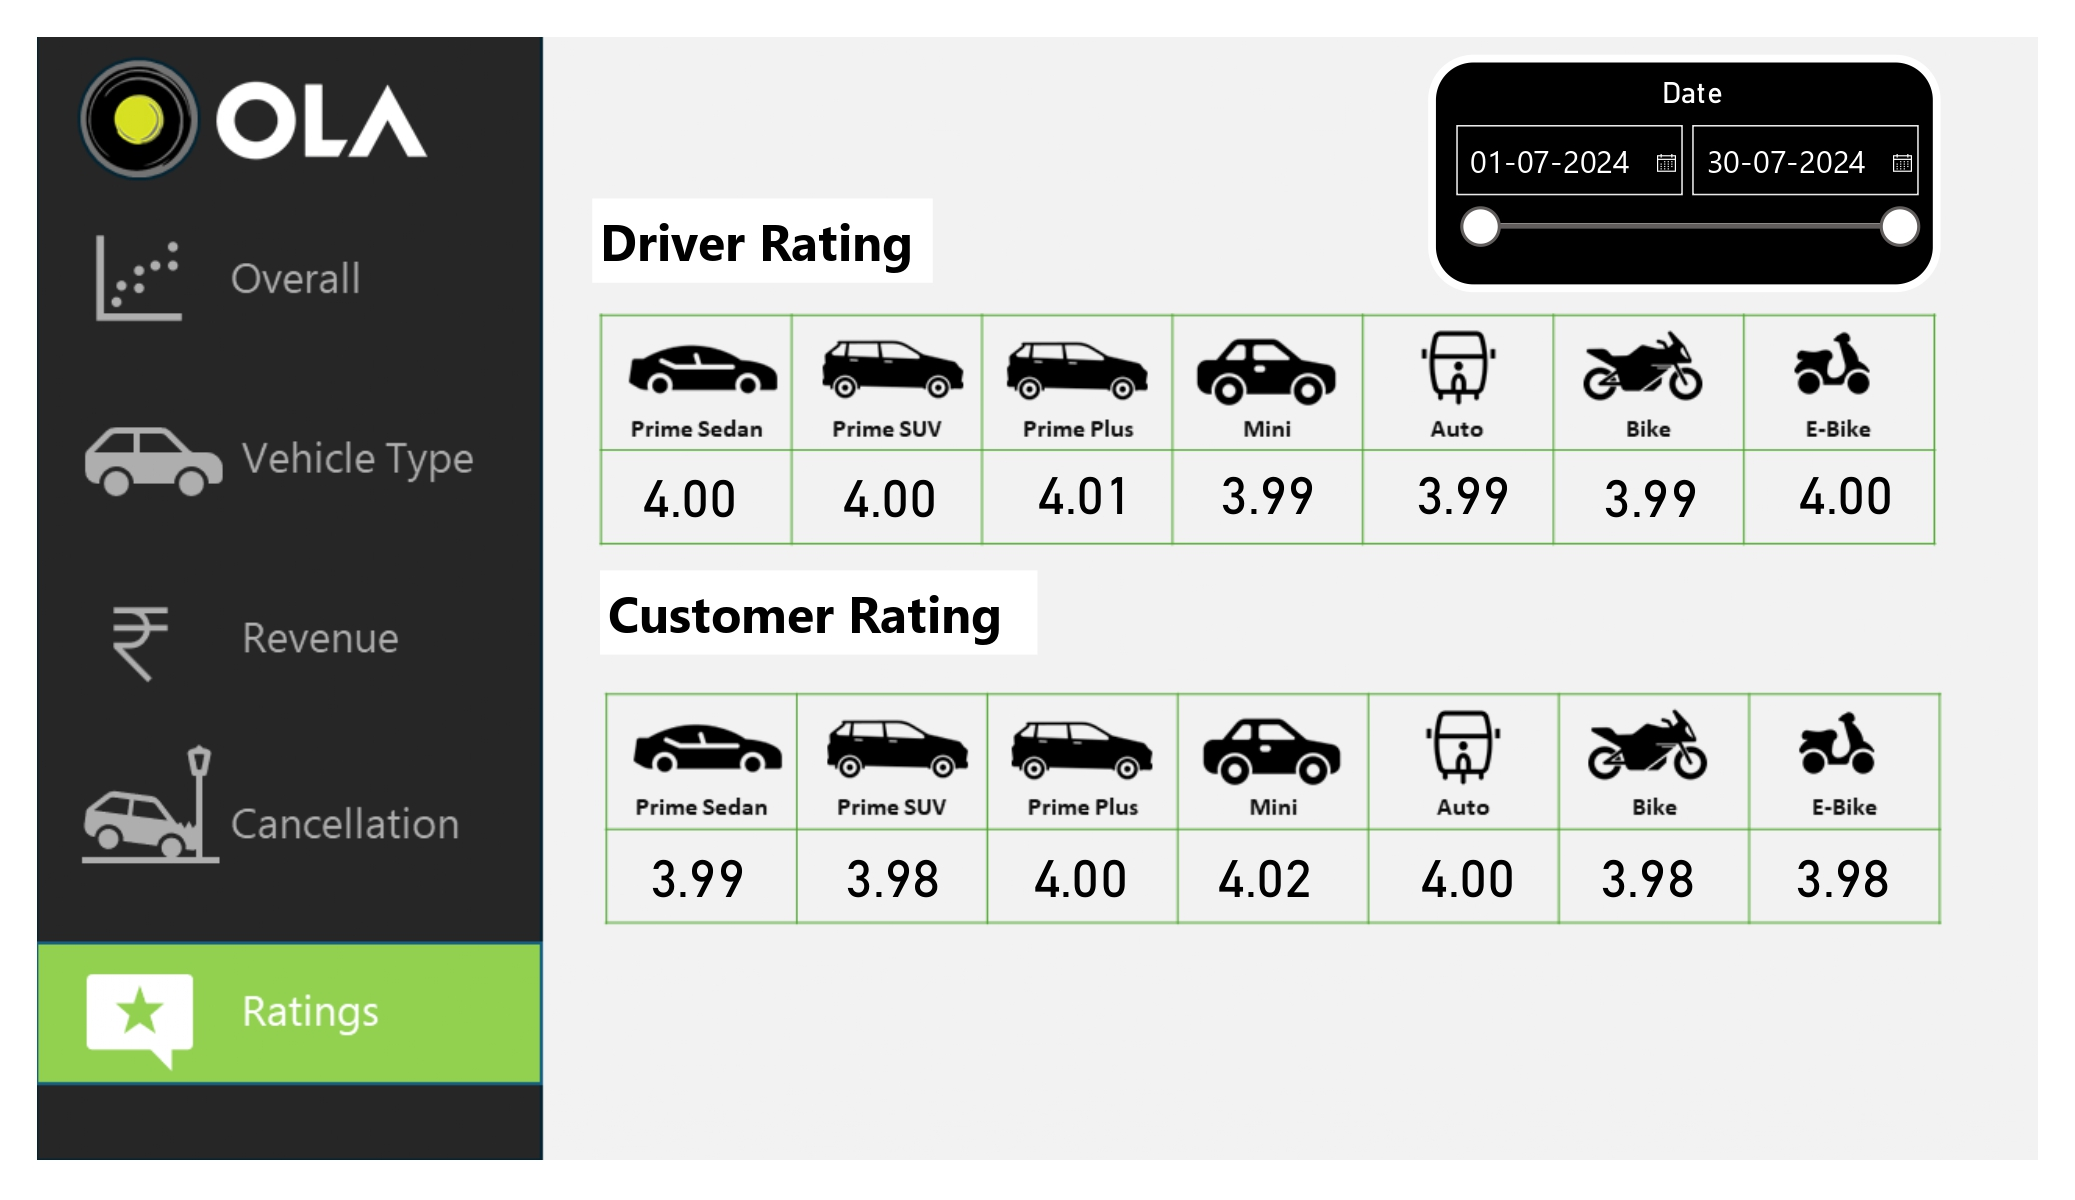

Layout of this report page (visuals, bound fields, positions):
{"tool":"powerbi","page":{"name":"Ratings","canvas":[1280,720],"ordinal":4},"visuals":[{"type":"actionButton","box":[0,226.2,323.8,97.6],"z":0},{"type":"actionButton","box":[0,102,324.5,98.3],"z":1000},{"type":"actionButton","box":[0,341.2,324.5,98.3],"z":2000},{"type":"actionButton","box":[0,439.4,324.5,98.3],"z":3000},{"type":"card","title":"Total Value","fields":{"Values":["Avg(Bookings.Driver_Ratings)"]},"box":[355.3,262.2,125,61.3],"z":4000},{"type":"card","title":"Total Value","fields":{"Values":["Avg(Bookings.Driver_Ratings)"]},"box":[482.7,262.2,125,61.3],"z":4001},{"type":"card","title":"Total Value","fields":{"Values":["Avg(Bookings.Driver_Ratings)"]},"box":[607.7,259.8,125,61.3],"z":4002},{"type":"card","title":"Total Value","fields":{"Values":["Avg(Bookings.Driver_Ratings)"]},"box":[725.3,259.8,125,61.3],"z":4003},{"type":"card","title":"Total Value","fields":{"Values":["Avg(Bookings.Driver_Ratings)"]},"box":[850.3,259.8,125,61.3],"z":4004},{"type":"card","title":"Total Value","fields":{"Values":["Avg(Bookings.Driver_Ratings)"]},"box":[970.4,262.2,125,61.3],"z":4005},{"type":"card","title":"Total Value","fields":{"Values":["Avg(Bookings.Driver_Ratings)"]},"box":[1095.4,259.8,125,61.3],"z":4006},{"type":"card","title":"Total Value","fields":{"Values":["Avg(Bookings.Customer_Rating)"]},"box":[360.2,504.8,125,61.3],"z":4007},{"type":"card","title":"Total Value","fields":{"Values":["Avg(Bookings.Customer_Rating)"]},"box":[485.2,504.8,125,61.3],"z":4008},{"type":"card","title":"Total Value","fields":{"Values":["Avg(Bookings.Customer_Rating)"]},"box":[605.3,504.8,125,61.3],"z":4009},{"type":"card","title":"Total Value","fields":{"Values":["Avg(Bookings.Customer_Rating)"]},"box":[722.9,504.8,125,61.3],"z":4010},{"type":"card","title":"Total Value","fields":{"Values":["Avg(Bookings.Customer_Rating)"]},"box":[852.8,504.8,125,61.3],"z":4011},{"type":"card","title":"Total Value","fields":{"Values":["Avg(Bookings.Customer_Rating)"]},"box":[967.9,504.8,125,61.3],"z":4012},{"type":"card","title":"Total Value","fields":{"Values":["Avg(Bookings.Customer_Rating)"]},"box":[1092.9,504.8,125,61.3],"z":4013},{"type":"textbox","box":[355.3,102.9,218.1,53.9],"z":4014},{"type":"textbox","box":[360.2,340.6,279.4,53.9],"z":4015},{"type":"slicer","title":"Date","fields":{"Values":["Bookings.Date"]},"box":[890,11.1,328.2,152],"z":4016}]}

Visuals, with their boxes on the page's 1280x720 design canvas (x1, y1, x2, y2). These are canvas units, not pixel positions in the 2075x1200 screenshot, which may show the page scaled, cropped or inside an application window:
actionButton: <box>0,226,324,324</box>
actionButton: <box>0,102,324,200</box>
actionButton: <box>0,341,324,440</box>
actionButton: <box>0,439,324,538</box>
"Total Value" card: <box>355,262,480,324</box>
"Total Value" card: <box>483,262,608,324</box>
"Total Value" card: <box>608,260,733,321</box>
"Total Value" card: <box>725,260,850,321</box>
"Total Value" card: <box>850,260,975,321</box>
"Total Value" card: <box>970,262,1095,324</box>
"Total Value" card: <box>1095,260,1220,321</box>
"Total Value" card: <box>360,505,485,566</box>
"Total Value" card: <box>485,505,610,566</box>
"Total Value" card: <box>605,505,730,566</box>
"Total Value" card: <box>723,505,848,566</box>
"Total Value" card: <box>853,505,978,566</box>
"Total Value" card: <box>968,505,1093,566</box>
"Total Value" card: <box>1093,505,1218,566</box>
textbox: <box>355,103,573,157</box>
textbox: <box>360,341,640,394</box>
"Date" slicer: <box>890,11,1218,163</box>
